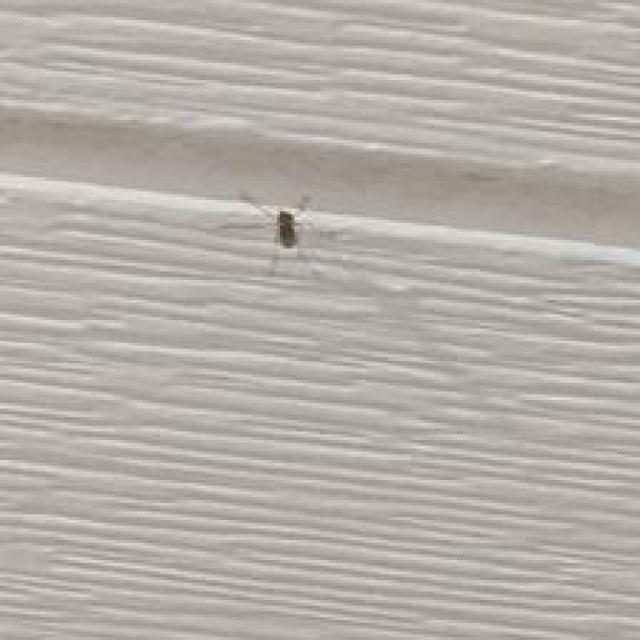Culex: (274, 207, 297, 247)
